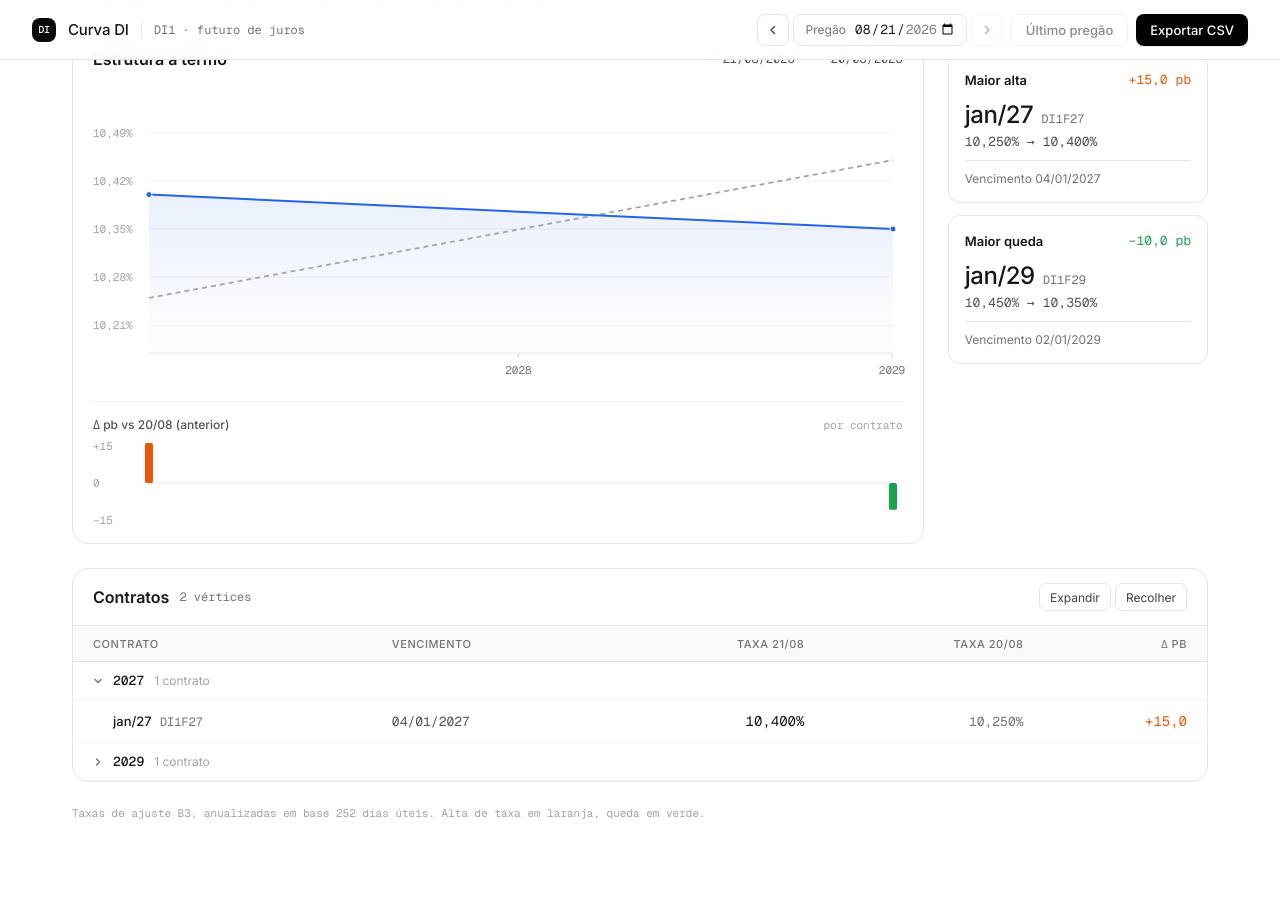
Test case: App › renderiza gráfico, hero e tabela agrupada por ano (sem coluna Origem)
This screenshot has width=1280, height=900.
(page scrolled)
Expected: the element with test id "curve-chart" is shown, [72,28,924,544]
Expected: the text "2027" is shown, [113,672,144,689]
Click the button "2029 1 contrato".
click(129, 762)  # box [73,743,1207,780]
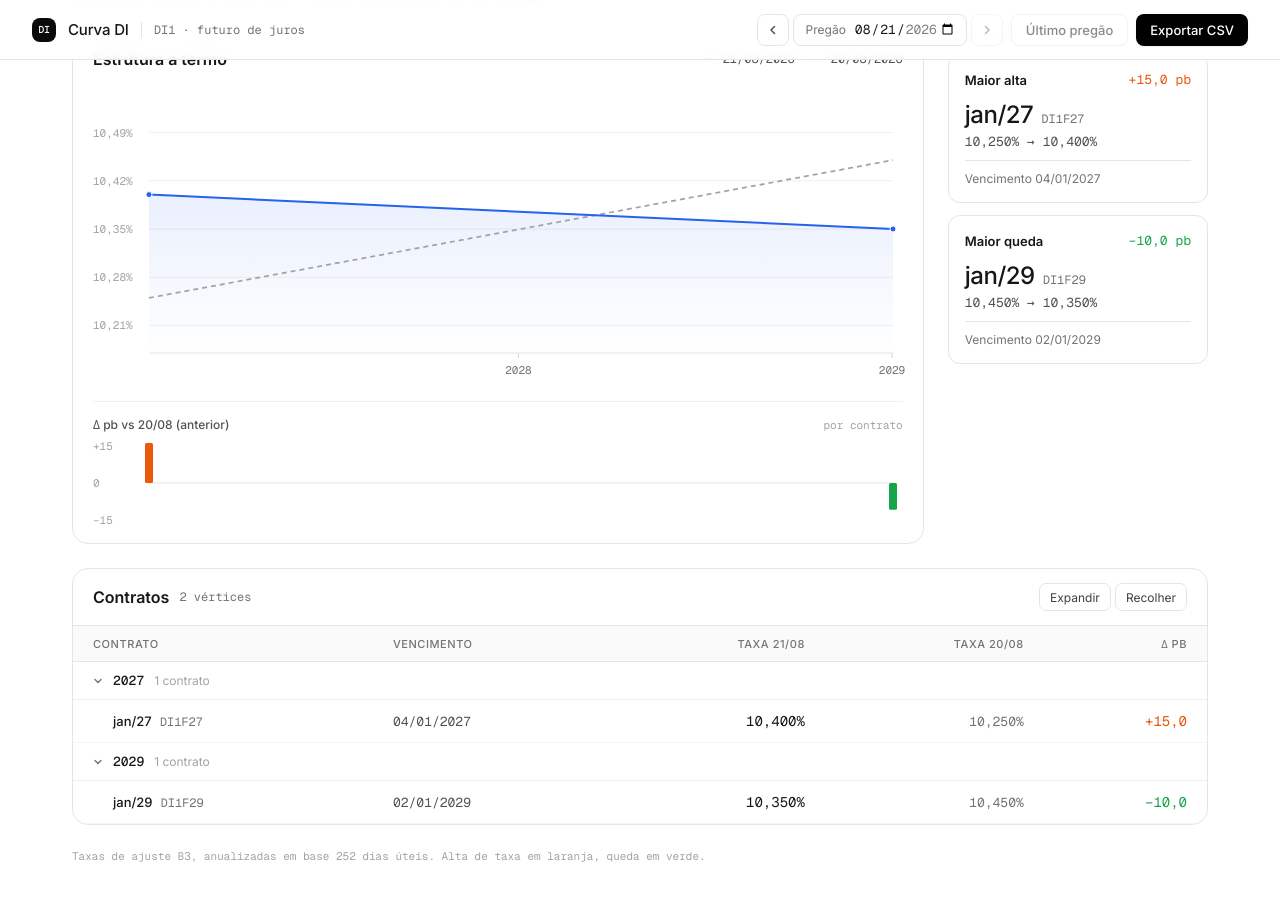
Result: the text "02/01/2029" is shown at [373,780,611,824]
